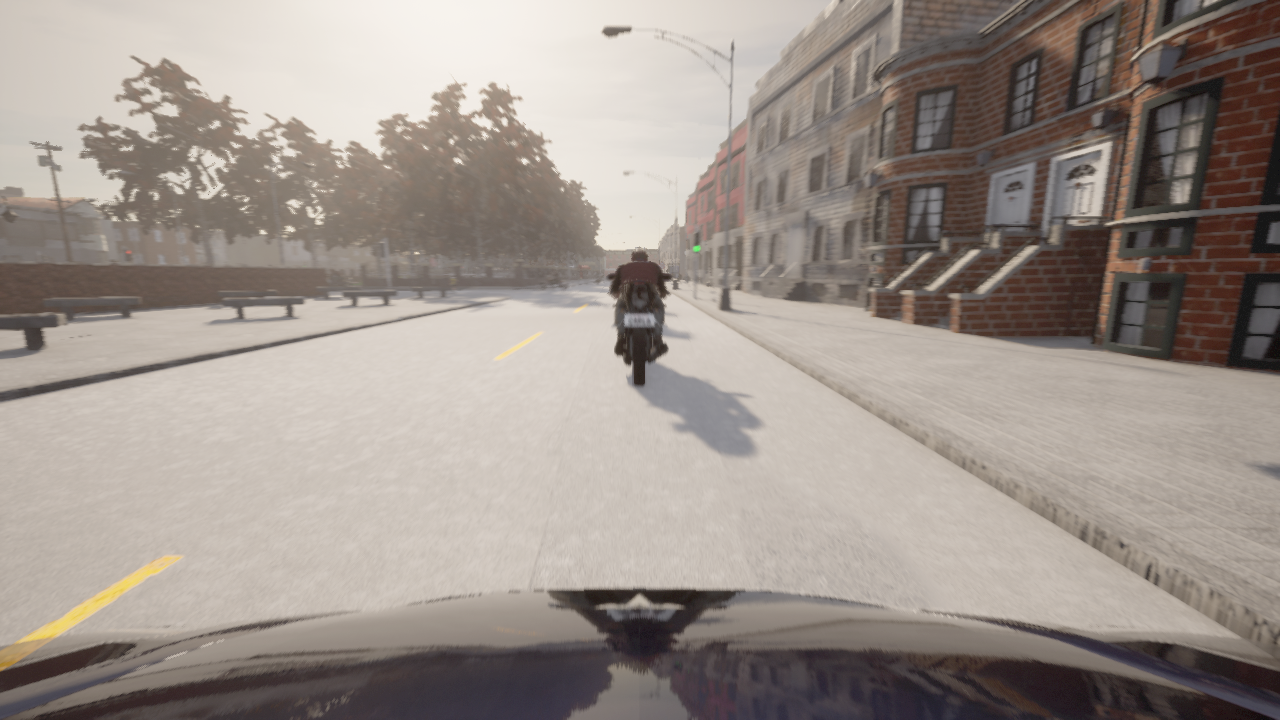cyclist: (0, 588, 1279, 719), (607, 274, 671, 386), (538, 273, 568, 290), (327, 273, 352, 286), (596, 275, 600, 284)
pedestrian: (416, 264, 423, 286), (450, 275, 457, 293)
